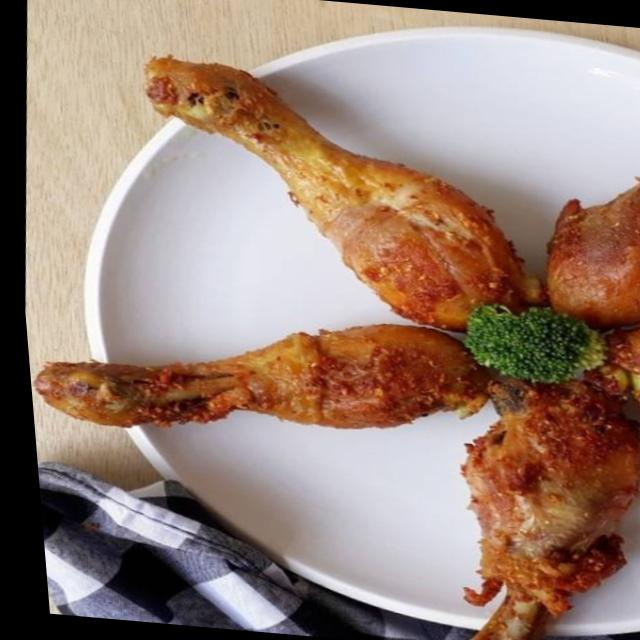CHICKEN FRY: (35, 60, 640, 640)
